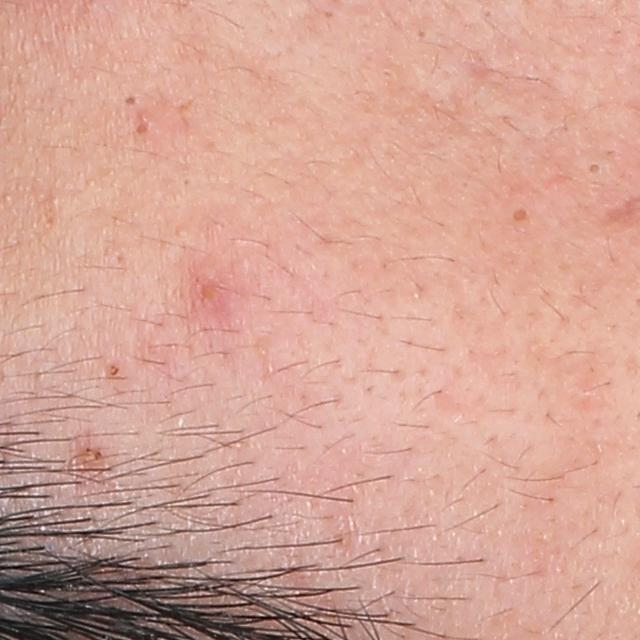comedo: (128, 115, 157, 142), (103, 361, 127, 383)
